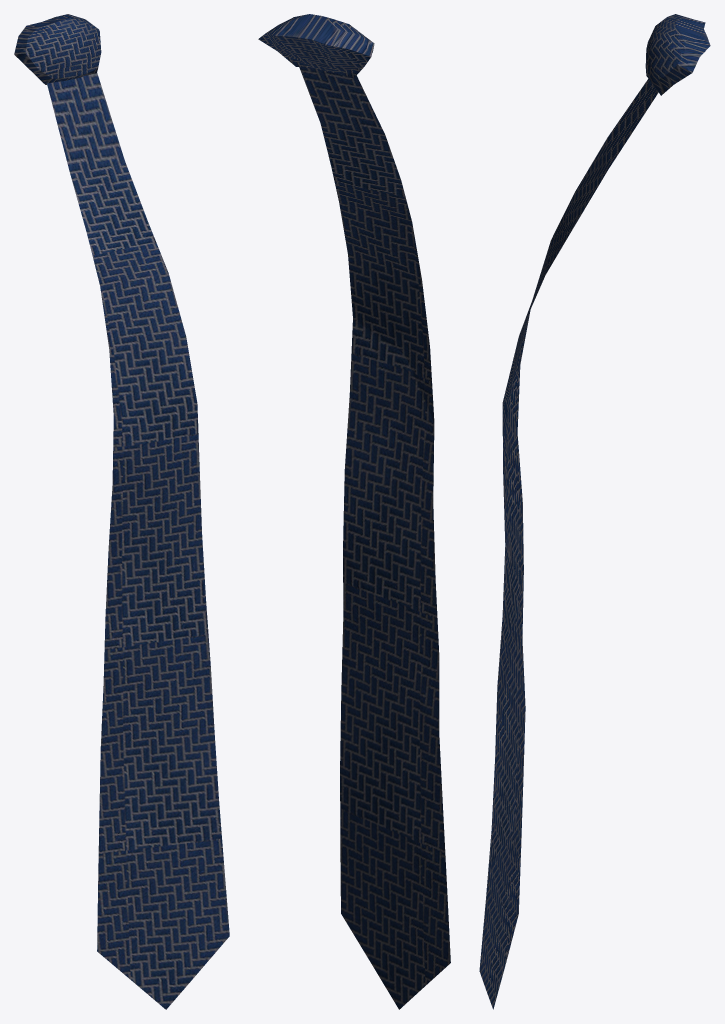
The model's file is Pose-3_Tie-3.fbx.
3 views of the same model, side by side, from view 1: azimuth 30°, elevation 25°; view 2: azimuth 150°, elevation 25°; view 3: azimuth 270°, elevation 25° (orthographic). The views are drawn at different scales.
Parts seen in each view (by area): view 1: Pose-3_Tie-3; view 2: Pose-3_Tie-3; view 3: Pose-3_Tie-3.
Boxes of the visible parts, x1,y1,x2,y2 form: Pose-3_Tie-3: [14, 14, 229, 1009]; Pose-3_Tie-3: [258, 14, 450, 1009]; Pose-3_Tie-3: [479, 14, 710, 1009].
Size of the model in its own units: 7.15 by 52.49 by 11.23.
